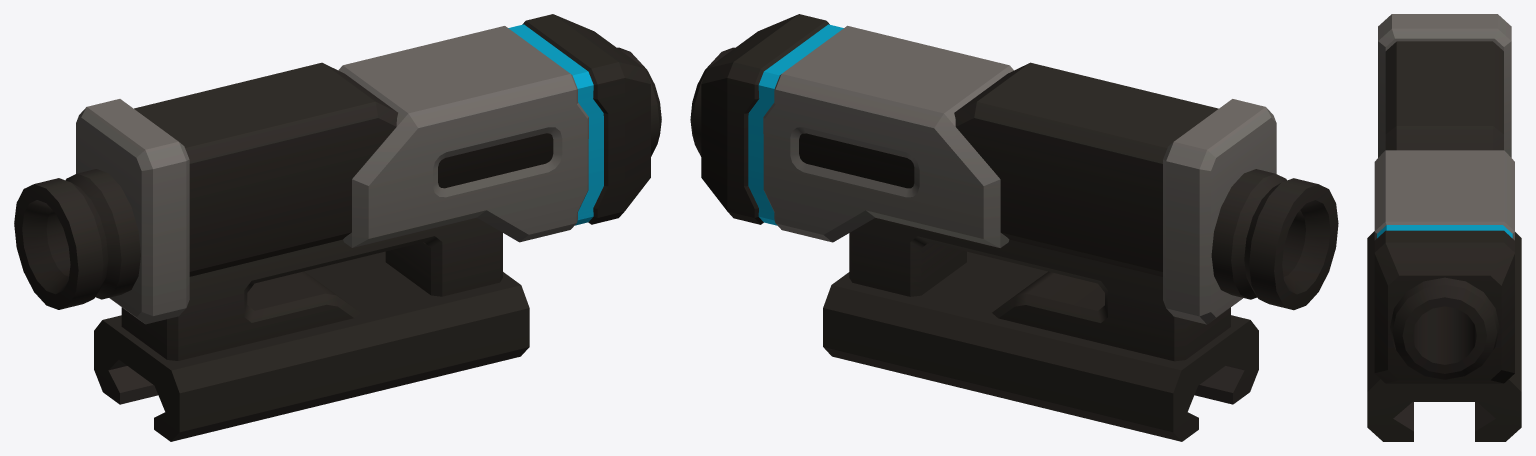
File: Sight_05.fbx
3 views of the same model, side by side, from view 1: azimuth 30°, elevation 25°; view 2: azimuth 150°, elevation 25°; view 3: azimuth 270°, elevation 25° (orthographic). The views are drawn at different scales.
Parts seen in each view (by area): view 1: Sight_05; view 2: Sight_05; view 3: Sight_05.
Boxes of the visible parts, x1,y1,x2,y2 form: Sight_05: (14,14,661,441); Sight_05: (690,14,1338,441); Sight_05: (1367,14,1521,441).
Bounding box in the file's own units: 15.62 × 7.41 × 3.91.
